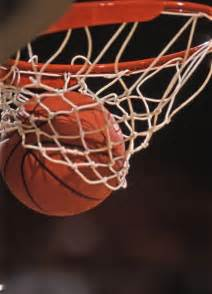basketball: (1, 90, 126, 217)
